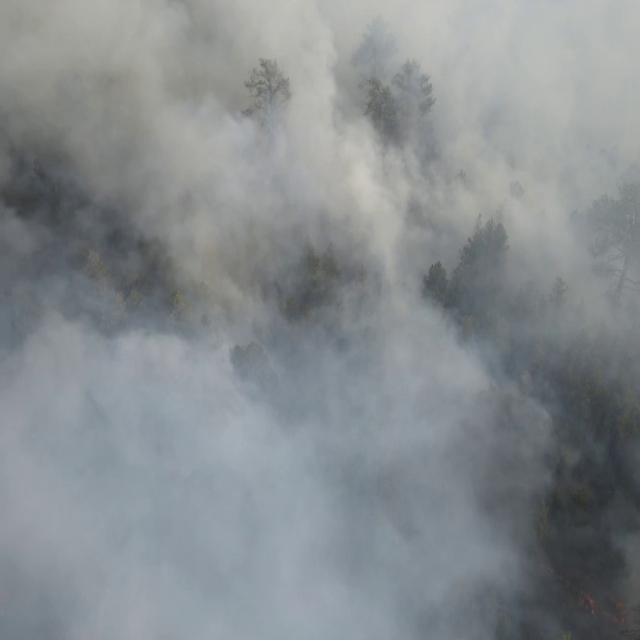fire: (542, 563, 596, 612), (604, 596, 627, 629)
smoke: (0, 0, 640, 640)
